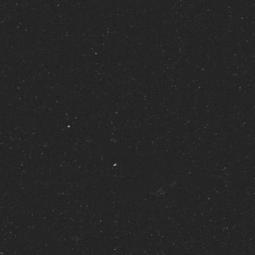xmm_newton: (116, 158, 198, 213)
